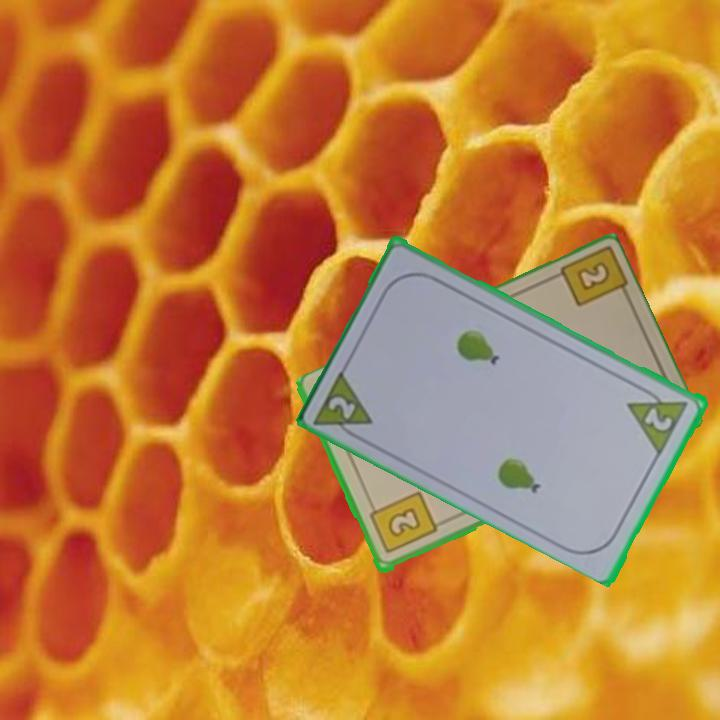2b: (365, 488, 440, 557), (572, 258, 613, 295)
2p: (311, 365, 378, 446), (641, 403, 676, 434)
